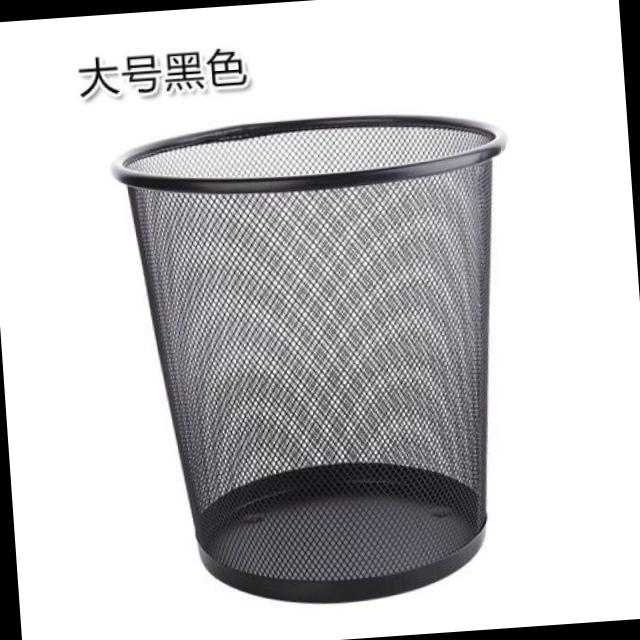dustbin: (106, 97, 548, 622)
